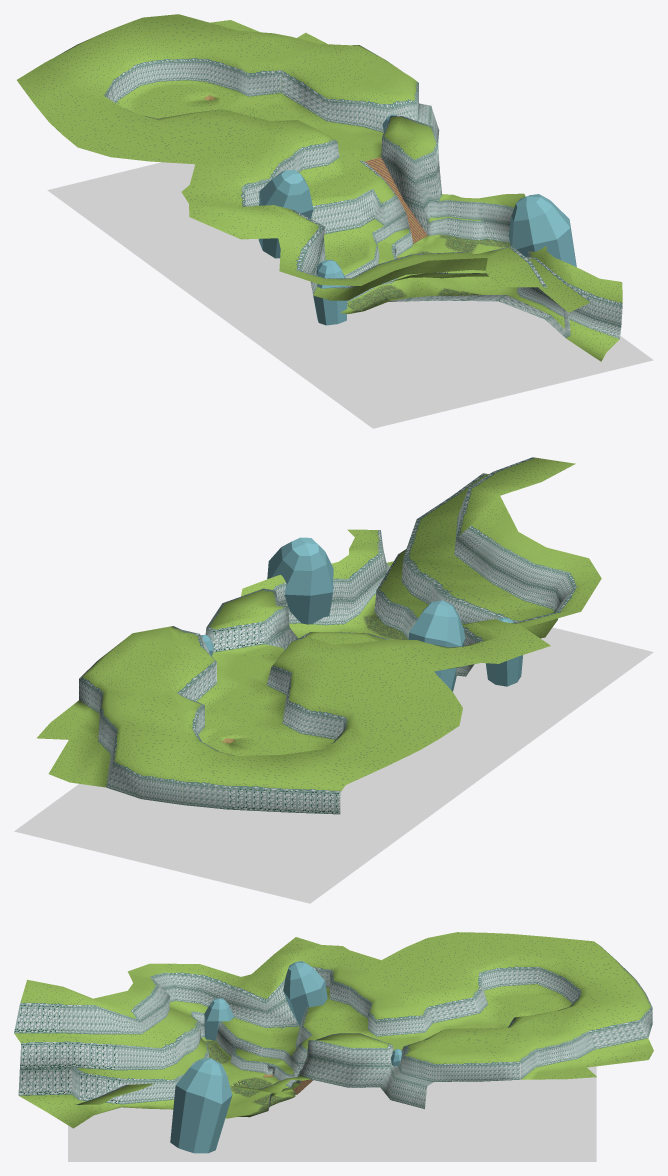
File: trainingCaveOutside.glb
3 views of the same model, one above another, from view 1: azimuth 30°, elevation 25°; view 2: azimuth 150°, elevation 25°; view 3: azimuth 270°, elevation 25° (orthographic). The views are drawn at different scales.
Visible parts, largest first — view 1: Circle, Plane, Plane.001, Circle.002; view 2: Circle, Plane, Plane.001; view 3: Circle, Plane, Plane.001.
Part boxes in pixels (<box>): Circle: <box>17,14,622,361</box>; Plane: <box>47,162,653,428</box>; Plane.001: <box>258,114,576,325</box>; Circle.002: <box>365,157,427,243</box>; Circle: <box>37,457,601,814</box>; Plane: <box>14,627,653,903</box>; Plane.001: <box>201,537,522,691</box>; Circle: <box>14,932,653,1128</box>; Plane: <box>68,1066,596,1161</box>; Plane.001: <box>170,961,401,1153</box>.
Size of the model in its own units: 144 by 55.19 by 288.
3 materials, 2 textured.
